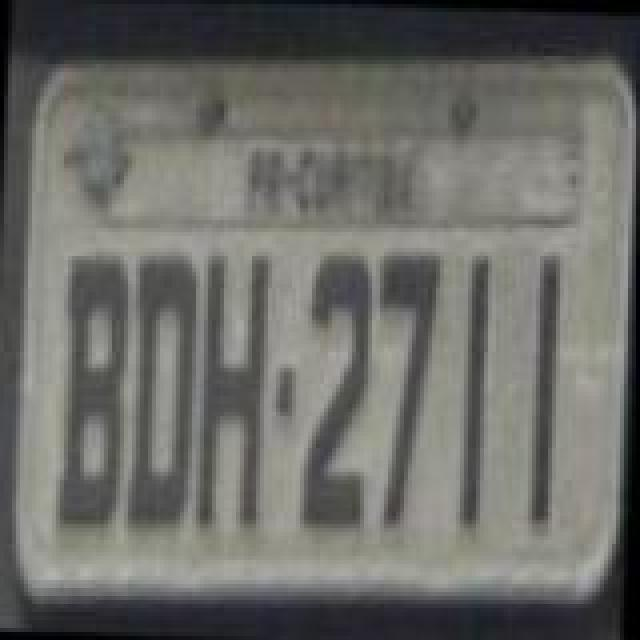1: (528, 248, 564, 528), (458, 244, 490, 532)
2: (298, 250, 378, 538)
7: (370, 248, 442, 528)
B: (54, 246, 134, 530)
D: (122, 248, 202, 532)
H: (194, 250, 274, 534)
